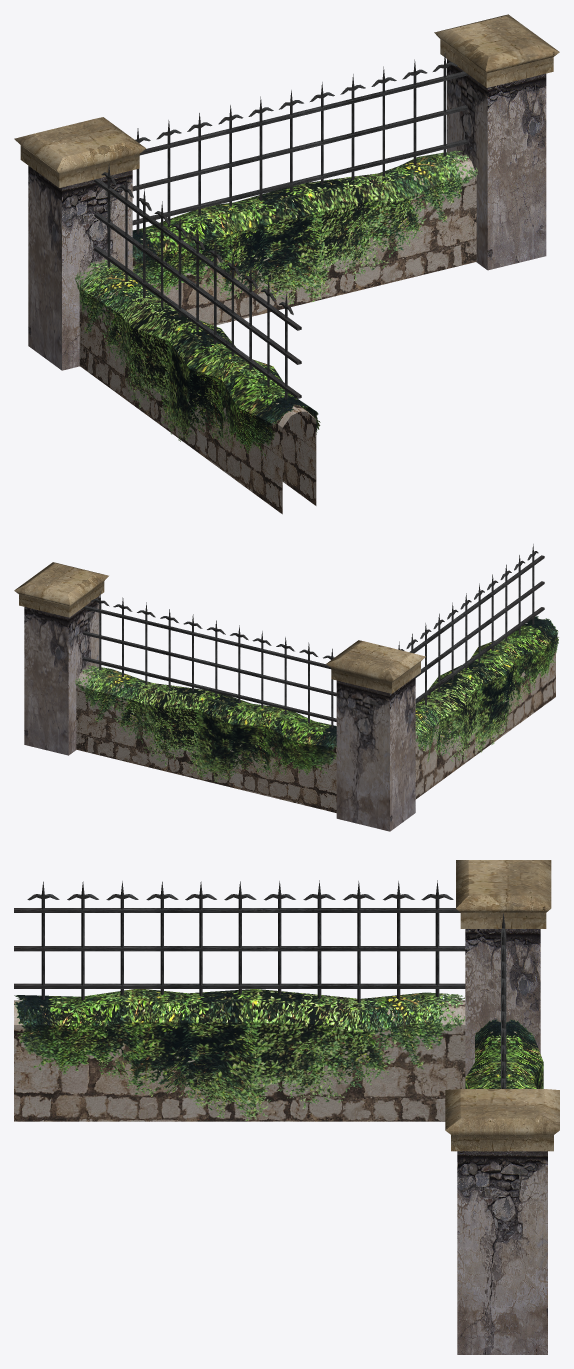
Rendered from Wall_Right_02.fbx.
3 renders of one model, top to bottom at view 1: azimuth 30°, elevation 25°; view 2: azimuth 150°, elevation 25°; view 3: azimuth 270°, elevation 25°, orthographic. The views are drawn at different scales.
Parts seen in each view (by area): view 1: wall_right_02; view 2: wall_right_02; view 3: wall_right_02.
Boxes of the visible parts, x1,y1,x2,y2 form: wall_right_02: [14, 14, 559, 514]; wall_right_02: [14, 544, 558, 831]; wall_right_02: [14, 860, 559, 1354].
Size of the model in its own units: 8.5 by 3.54 by 7.26.
